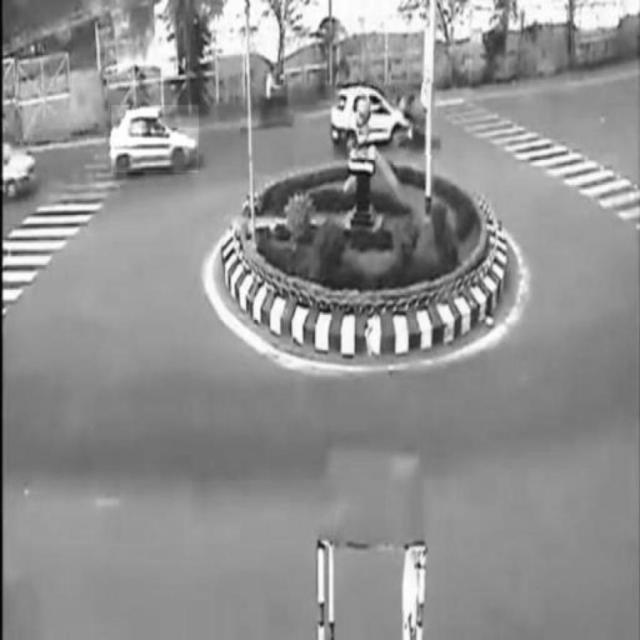accident: (335, 83, 435, 156)
vehicle: (111, 105, 199, 172)
